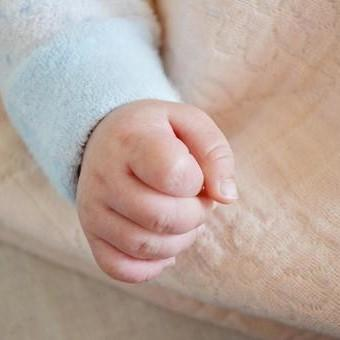gu-: (77, 106, 239, 287)
